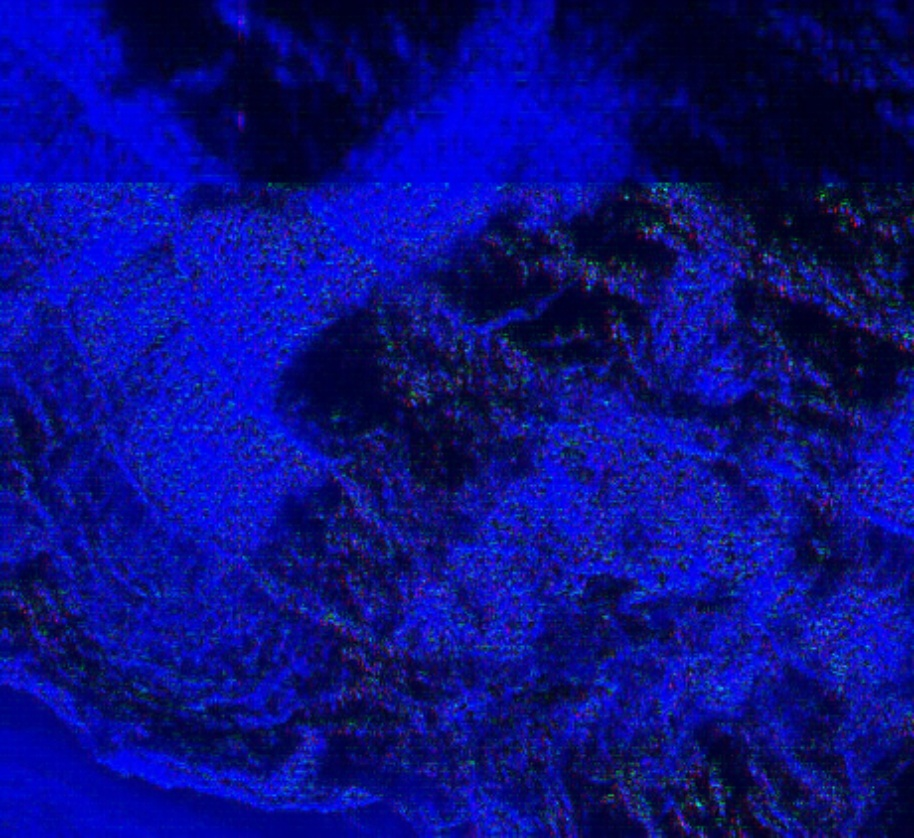rip_current: (221, 187, 674, 652)
